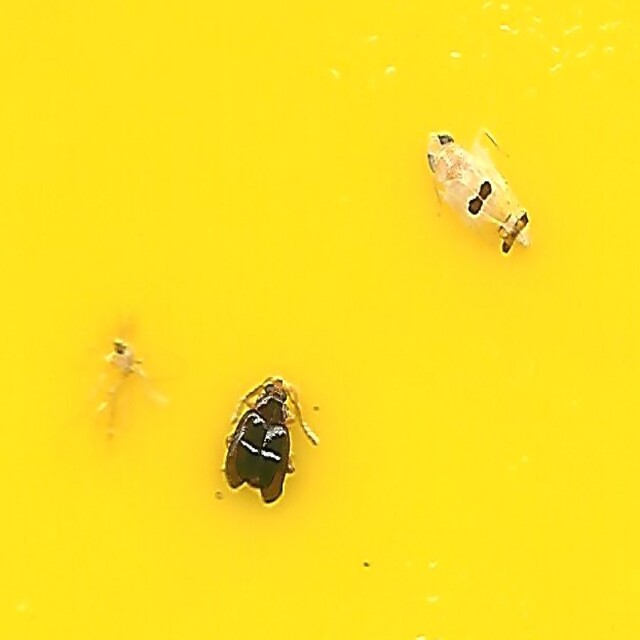Coleoptera: (221, 373, 308, 507)
Hemiptera: (431, 133, 537, 264)
Nematocera: (103, 331, 163, 449)
